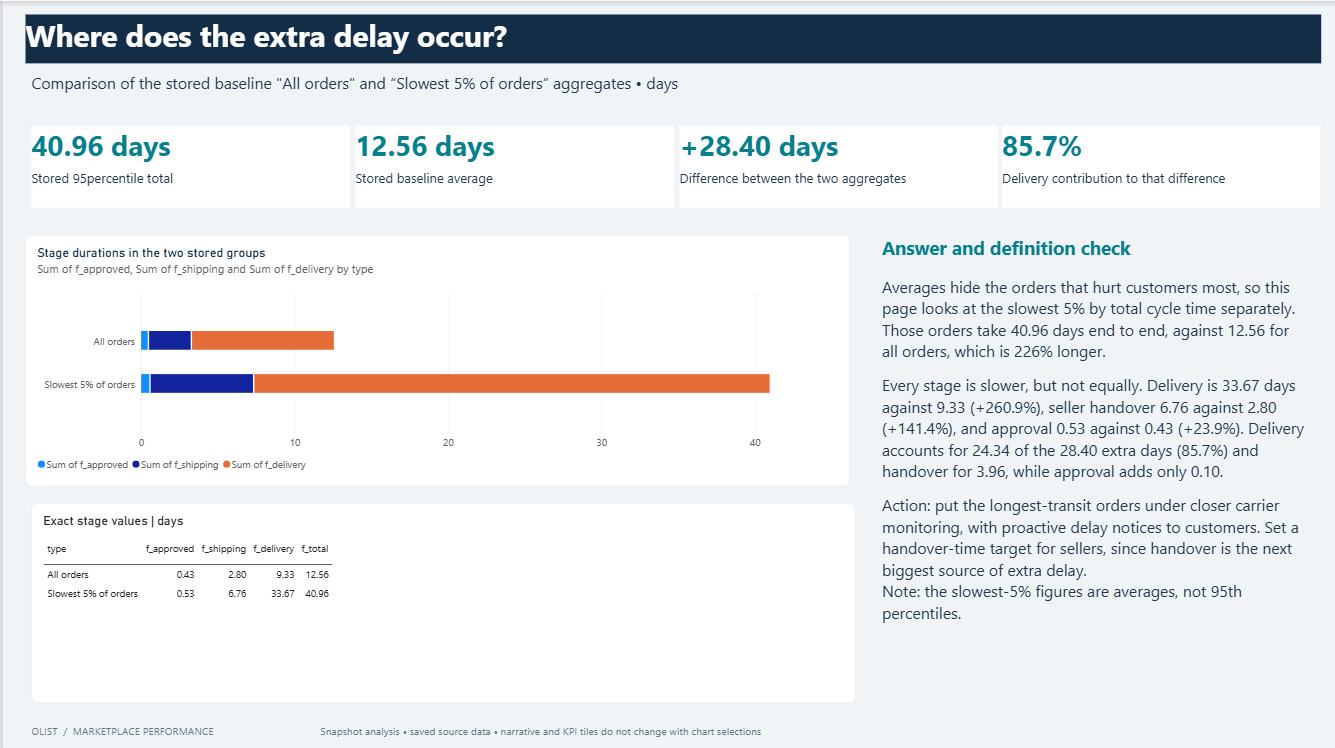

The dashboard page shown, as its layout file describes it:
{"tool":"powerbi","page":{"name":"03 | Severe delays","canvas":[1920,1080],"ordinal":2},"visuals":[{"type":"textbox","box":[32,20,1856,70],"z":0},{"type":"textbox","box":[40,100,1840,62],"z":1000},{"type":"textbox","box":[40,1035,1840,30],"z":2000},{"type":"textbox","box":[40,178,456,62],"z":3000},{"type":"textbox","box":[40,240,456,55],"z":4000},{"type":"textbox","box":[504,178,456,62],"z":5000},{"type":"textbox","box":[504,240,456,55],"z":6000},{"type":"textbox","box":[968,178,456,62],"z":7000},{"type":"textbox","box":[968,240,456,55],"z":8000},{"type":"textbox","box":[1432,178,456,62],"z":9000},{"type":"textbox","box":[1432,240,456,55],"z":10000},{"type":"barChart","title":"Stage durations in the two stored groups","fields":{"Category":["Append1.type"],"Y":["Sum(Append1.f_approved)","Sum(Append1.f_shipping)","Sum(Append1.f_delivery)"]},"box":[31.7,335,1180,360],"z":11000},{"type":"tableEx","title":"Exact stage values | days","fields":{"Values":["Append1.type","Append1.f_approved","Append1.f_shipping","Append1.f_delivery","Append1.f_total"]},"box":[40,720,1180,285],"z":12000},{"type":"textbox","box":[1260,335,610,48],"z":13000},{"type":"textbox","box":[1260,393,610,592],"z":14000}]}

Visuals, with their boxes in screenshot pixels (x1, y1, x2, y2), scaled from the page's 1920x1080 canvas onto the 1335x748 screenshot:
textbox: crop(22, 14, 1313, 62)
textbox: crop(28, 69, 1307, 112)
textbox: crop(28, 717, 1307, 738)
textbox: crop(28, 123, 345, 166)
textbox: crop(28, 166, 345, 204)
textbox: crop(350, 123, 668, 166)
textbox: crop(350, 166, 668, 204)
textbox: crop(673, 123, 990, 166)
textbox: crop(673, 166, 990, 204)
textbox: crop(996, 123, 1313, 166)
textbox: crop(996, 166, 1313, 204)
"Stage durations in the two stored groups" barChart: crop(22, 232, 843, 481)
"Exact stage values | days" tableEx: crop(28, 499, 848, 696)
textbox: crop(876, 232, 1300, 265)
textbox: crop(876, 272, 1300, 682)
